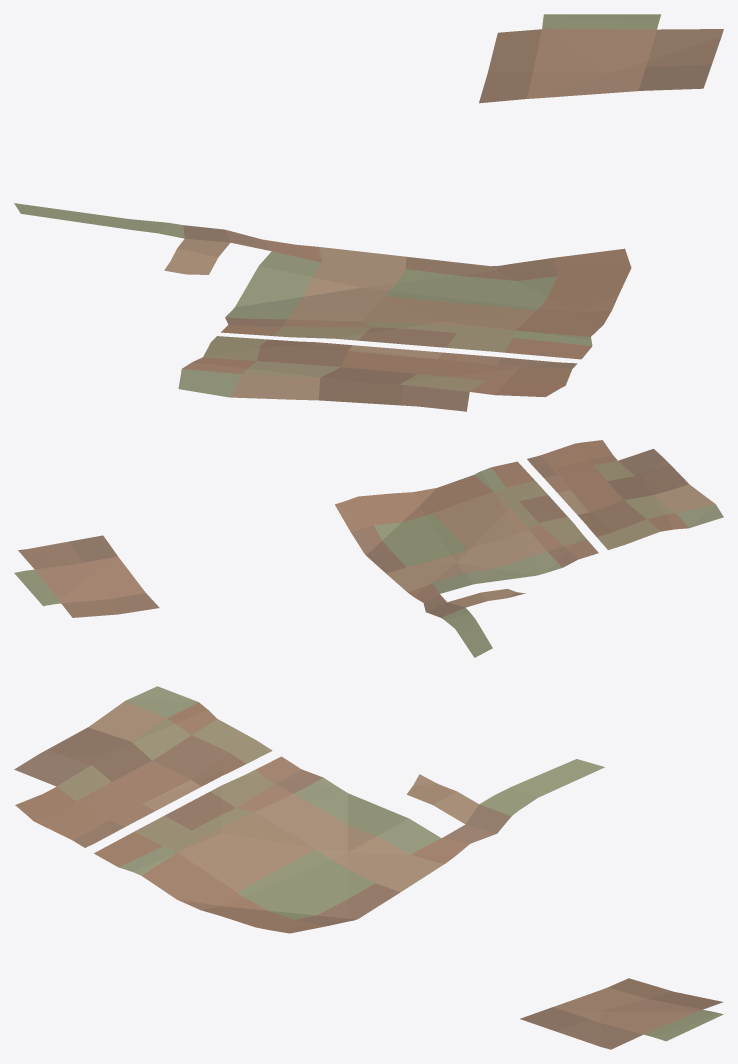
The model's file is farm_-6_-7_soil.glb.
The picture shows the model from 3 angles, top to bottom: view 1: azimuth 30°, elevation 25°; view 2: azimuth 150°, elevation 25°; view 3: azimuth 270°, elevation 25°; orthographic projection. The views are drawn at different scales.
Parts seen in each view (by area): view 1: geometry_0; view 2: geometry_0; view 3: geometry_0.
Boxes of the visible parts, left/top/right/bottom form: geometry_0: left=14, top=14, right=723, bottom=411; geometry_0: left=14, top=440, right=723, bottom=657; geometry_0: left=14, top=686, right=723, bottom=1049.
Bounding box in the file's own units: 488 × 42.38 × 450.
